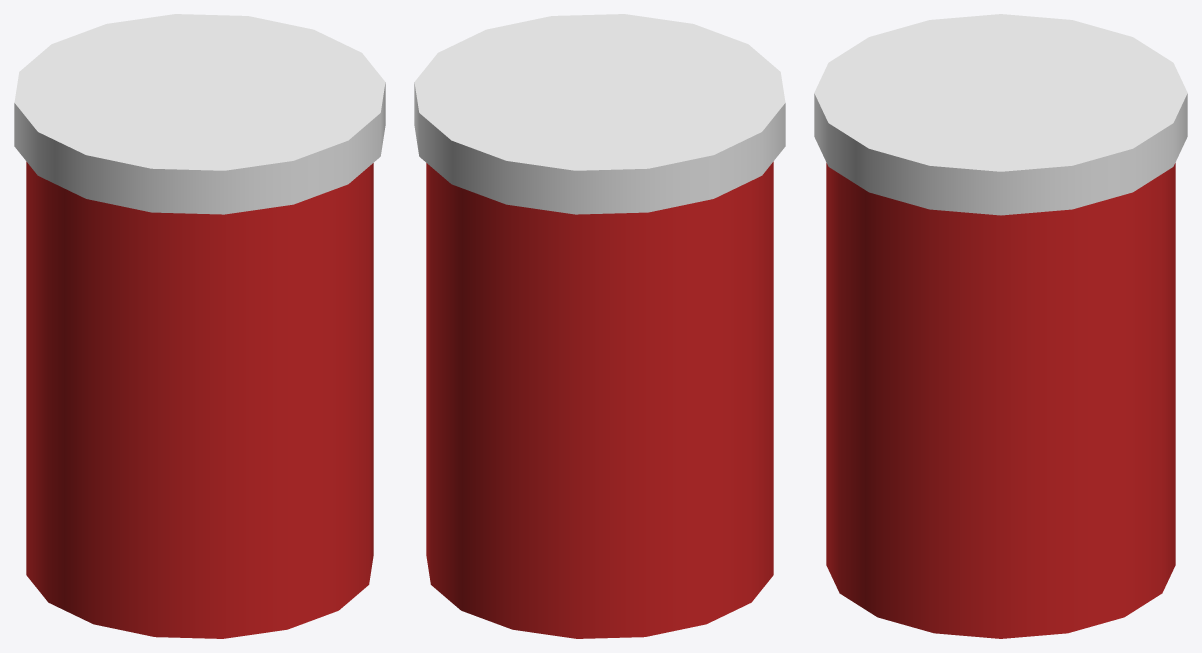
File: CafeteriaMilkCup.obj
The picture shows the model from 3 angles, left to right: view 1: azimuth 30°, elevation 25°; view 2: azimuth 150°, elevation 25°; view 3: azimuth 270°, elevation 25°; orthographic projection.
Visible parts, largest first — view 1: CupBody, WhiteRim; view 2: CupBody, WhiteRim; view 3: CupBody, WhiteRim.
Part boxes in pixels (x1,y1,x2,y2): CupBody: (26,161,373,638); WhiteRim: (14,14,385,214); CupBody: (426,161,773,638); WhiteRim: (414,14,785,214); CupBody: (826,163,1175,638); WhiteRim: (814,14,1187,215).
Bounding box in the file's own units: 0.62 × 0.865 × 0.62.
